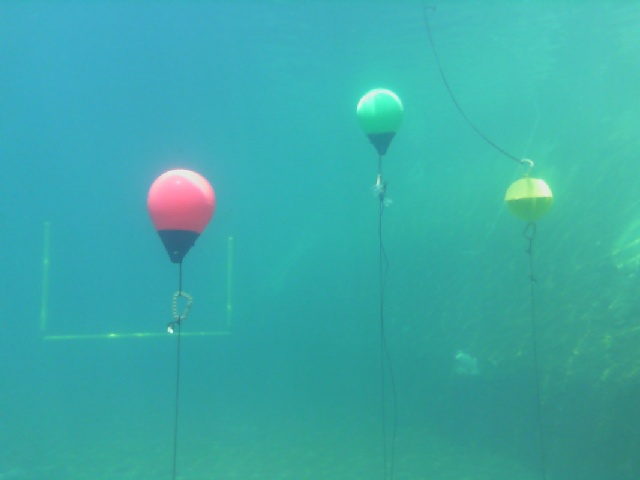buoy_green: (355, 88, 404, 158)
buoy_red: (144, 165, 215, 272)
buoy_yellow: (502, 174, 555, 227)
channel: (38, 227, 240, 345)
